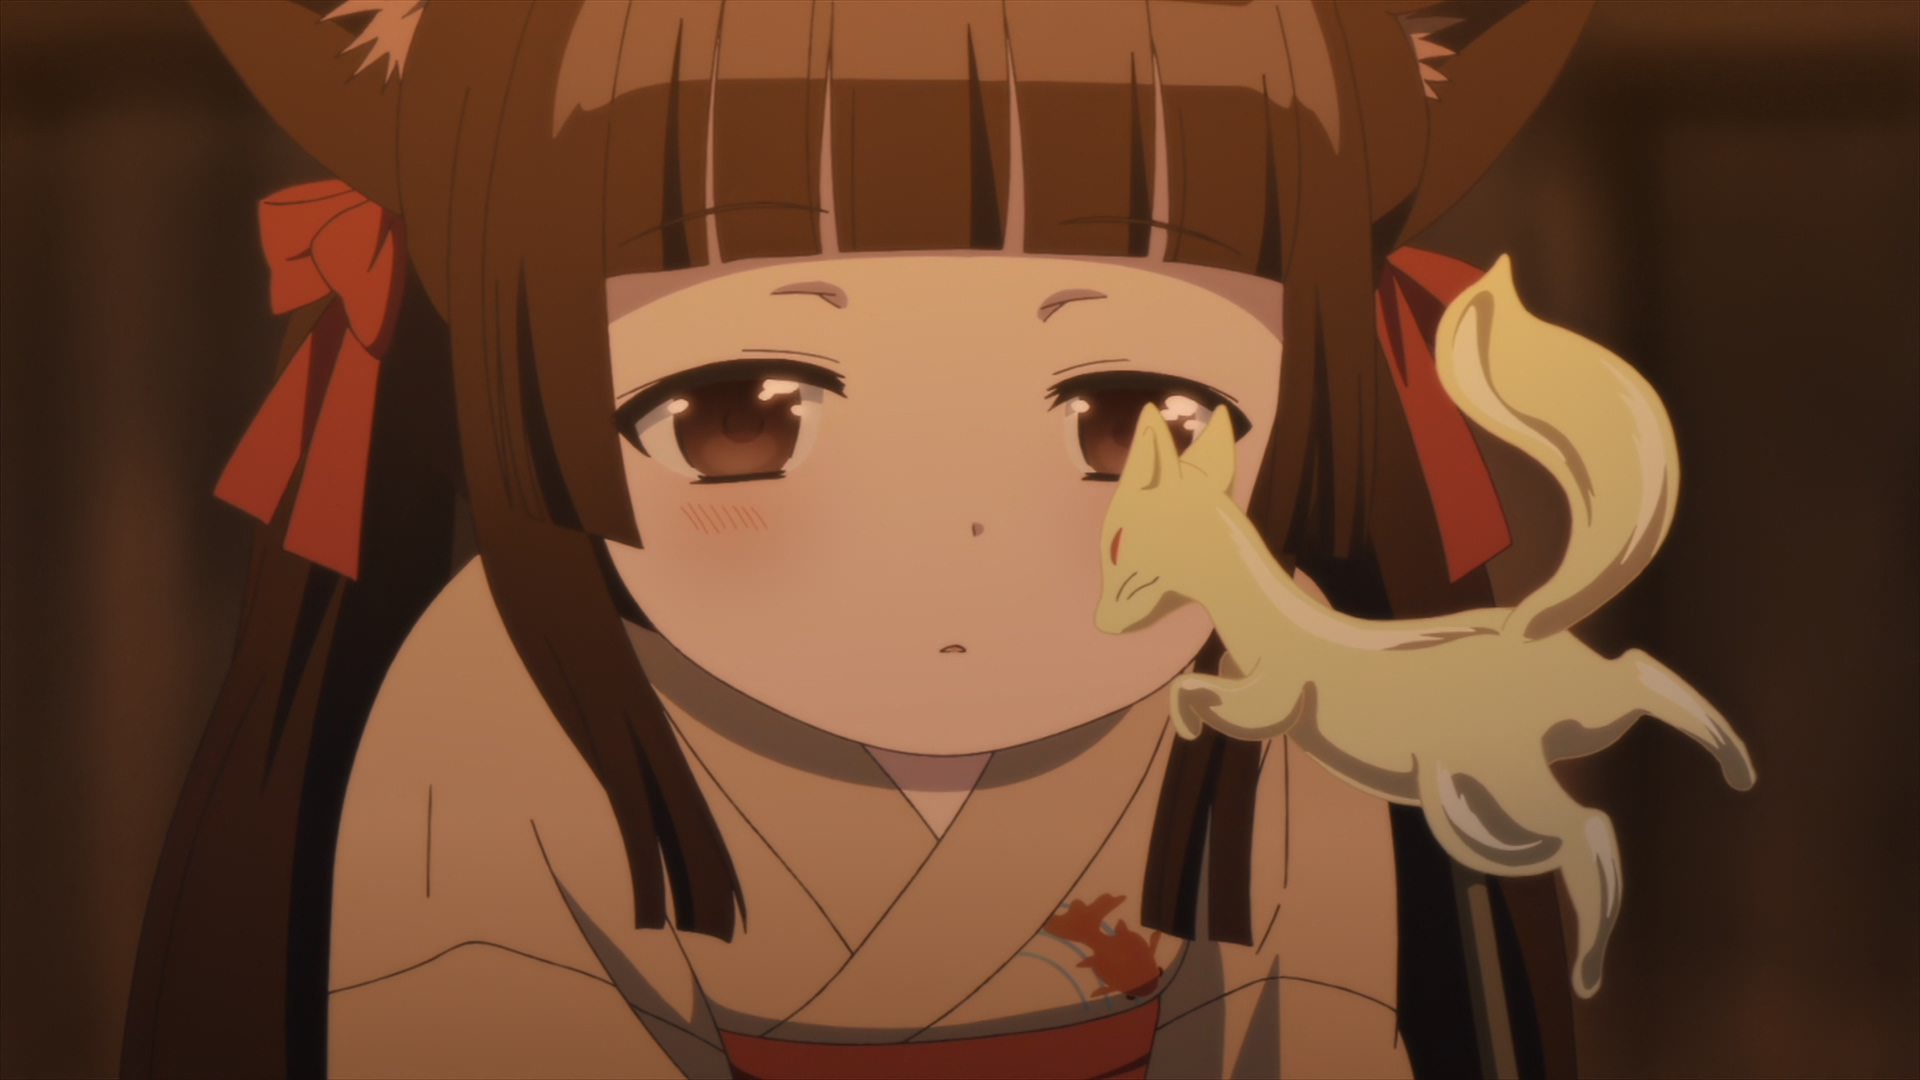樱: (121, 1, 1597, 1080)
